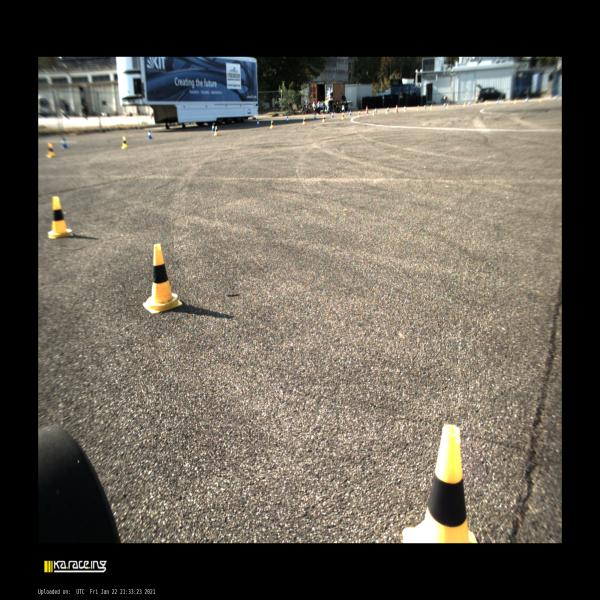blue_cone: (61, 136, 68, 148), (148, 130, 152, 139), (256, 119, 260, 127), (211, 124, 215, 131), (349, 110, 352, 115), (331, 112, 334, 117), (286, 116, 288, 123), (314, 113, 316, 120)
large_orange_cone: (395, 104, 398, 113), (366, 106, 368, 113)
yellow_cone: (402, 425, 478, 542), (142, 244, 182, 314), (48, 197, 72, 238), (46, 143, 55, 157), (122, 136, 127, 149), (214, 126, 218, 135), (270, 121, 274, 128), (357, 111, 361, 117), (322, 116, 325, 122), (303, 117, 305, 125), (342, 113, 344, 119), (373, 110, 375, 116)
